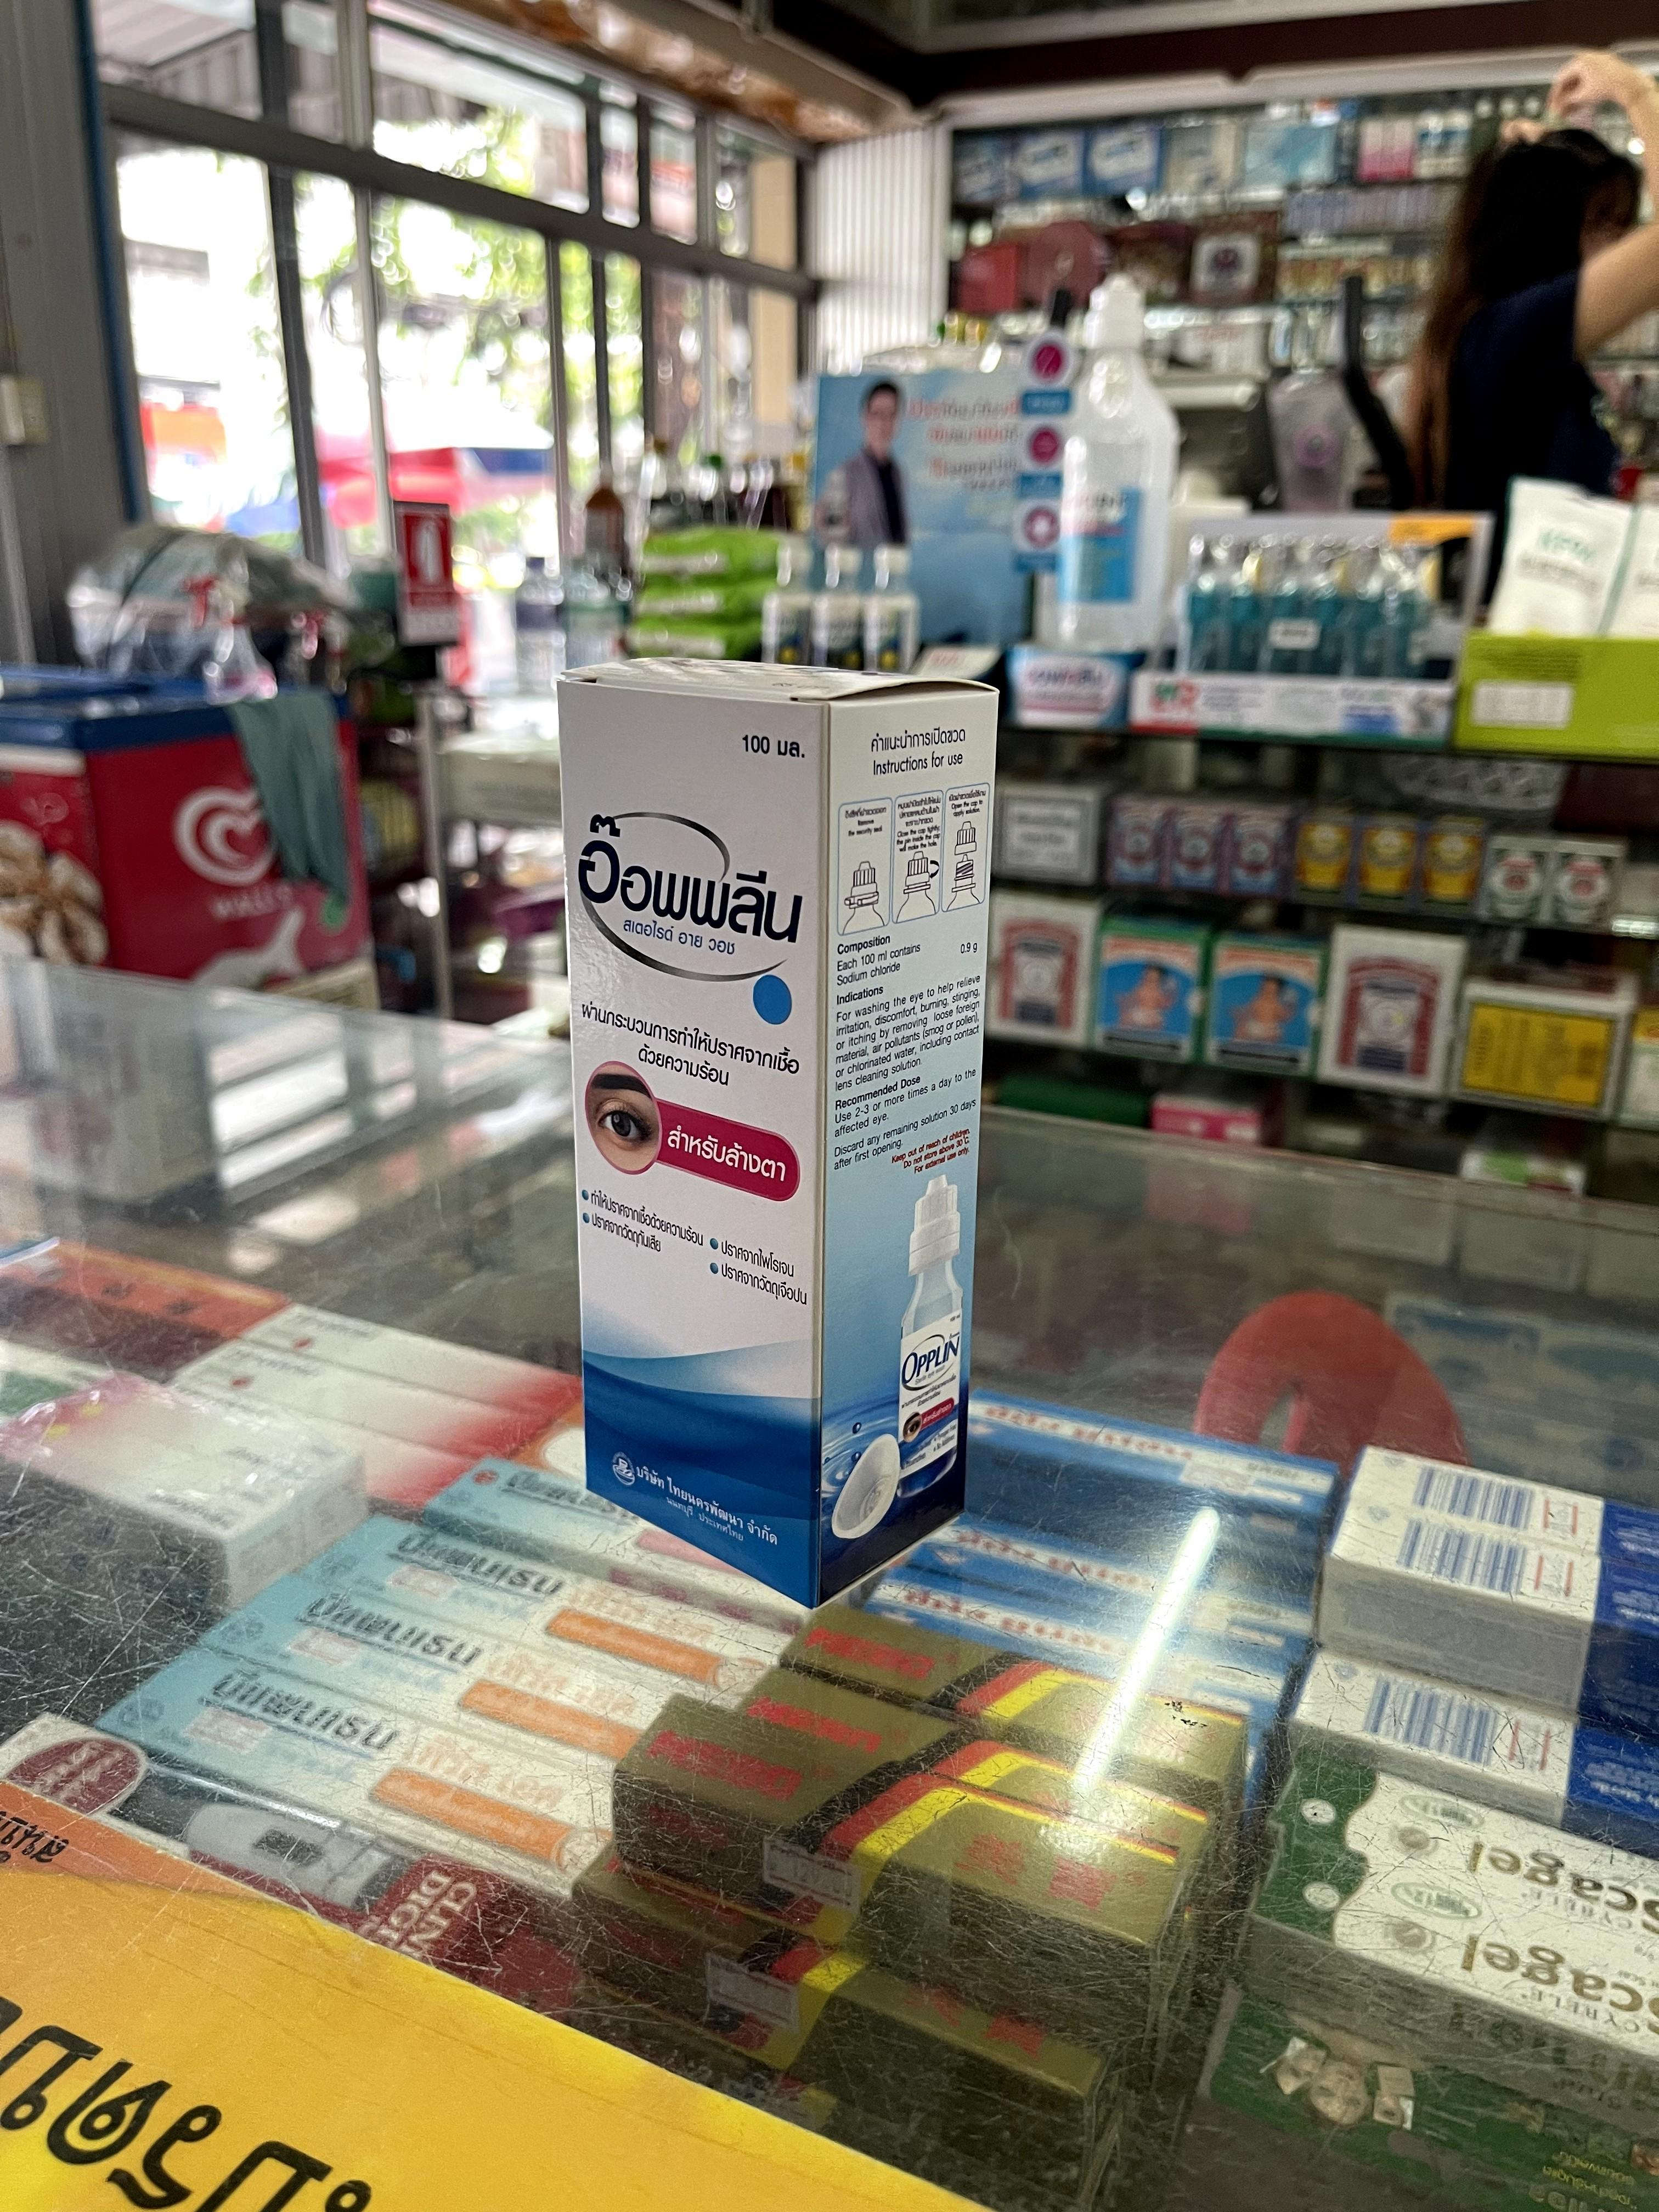Opplin: (554, 653, 999, 1604)
